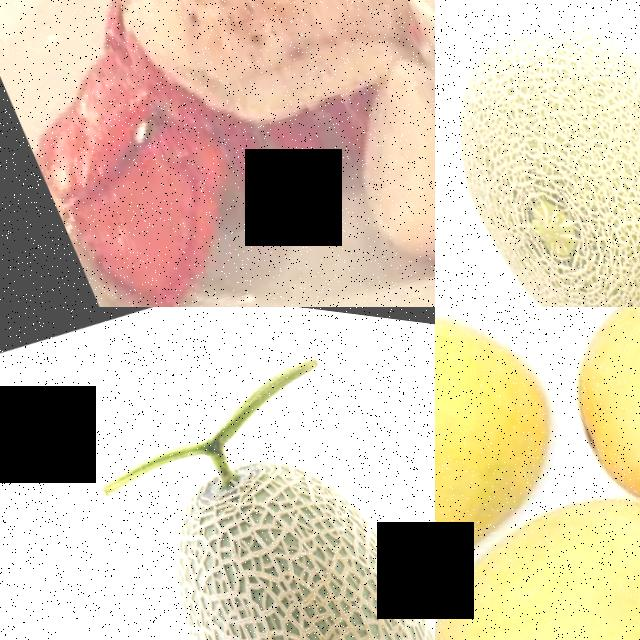lobster tails: (0, 0, 400, 307)
mango: (435, 307, 587, 601), (435, 459, 640, 640), (533, 307, 640, 525)
melon: (113, 381, 435, 640), (435, 0, 640, 307)
